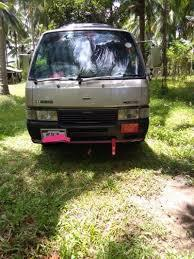van: (25, 20, 151, 159)
